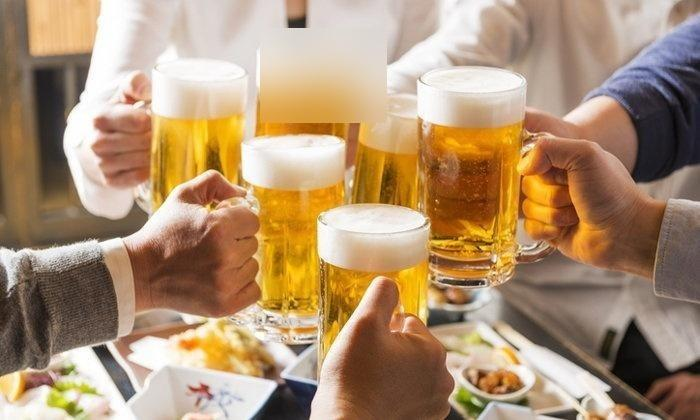glass-mug: (410, 64, 566, 293), (219, 131, 353, 342), (113, 55, 252, 214), (315, 204, 439, 346)
